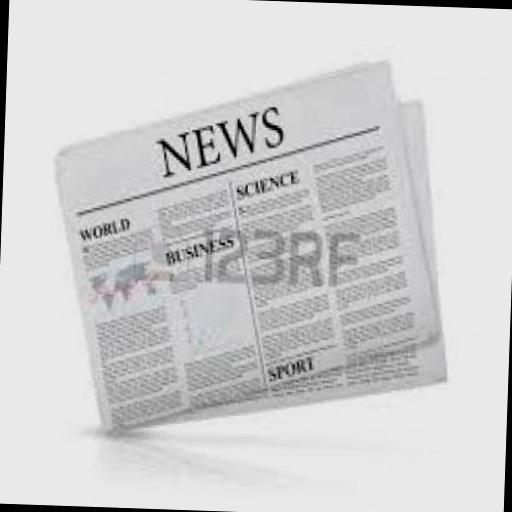paper: (43, 46, 445, 432), (155, 88, 454, 428)
